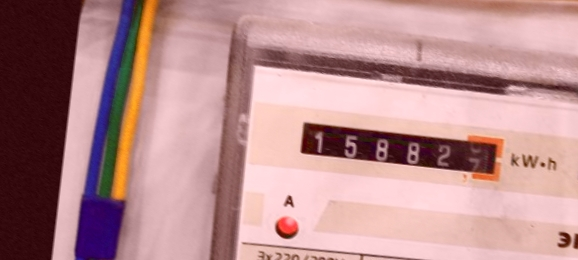1: (312, 128, 327, 155)
2: (436, 142, 454, 168)
5: (343, 132, 360, 160)
7: (466, 154, 483, 173)
8: (374, 136, 393, 162), (406, 139, 424, 166)
screen: (290, 109, 514, 191)
